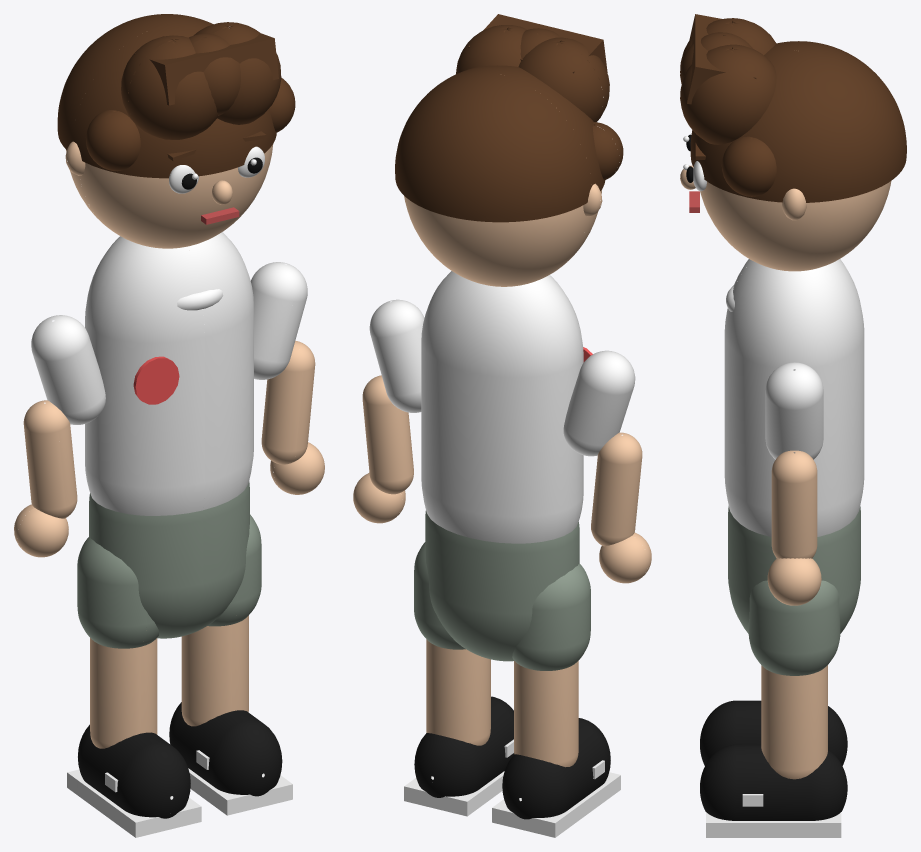
The model's file is manuel.glb.
The picture shows the model from 3 angles, left to right: view 1: azimuth 30°, elevation 25°; view 2: azimuth 150°, elevation 25°; view 3: azimuth 270°, elevation 25°; orthographic projection. The views are drawn at different scales.
Parts seen in each view (by area): view 1: torso, head, legL, legR, armL, armR; view 2: torso, head, legL, legR, armL, armR; view 3: head, torso, legR, armR, legL.
Part boxes in pixels (bbox=[...]): torso: bbox=[77, 232, 261, 648]; head: bbox=[57, 14, 295, 248]; legL: bbox=[67, 638, 201, 837]; legR: bbox=[169, 615, 292, 815]; armL: bbox=[14, 315, 105, 557]; armR: bbox=[250, 262, 324, 494]; torso: bbox=[414, 271, 592, 670]; head: bbox=[395, 14, 623, 286]; legL: bbox=[492, 661, 620, 837]; legR: bbox=[404, 639, 514, 816]; armL: bbox=[563, 350, 651, 583]; armR: bbox=[353, 299, 424, 523]; head: bbox=[680, 14, 906, 271]; torso: bbox=[724, 259, 864, 675]; legR: bbox=[700, 665, 847, 837]; armR: bbox=[765, 362, 823, 605]; legL: bbox=[700, 700, 847, 765].
Size of the model in its own units: 1.16 by 2.86 by 0.7629.
